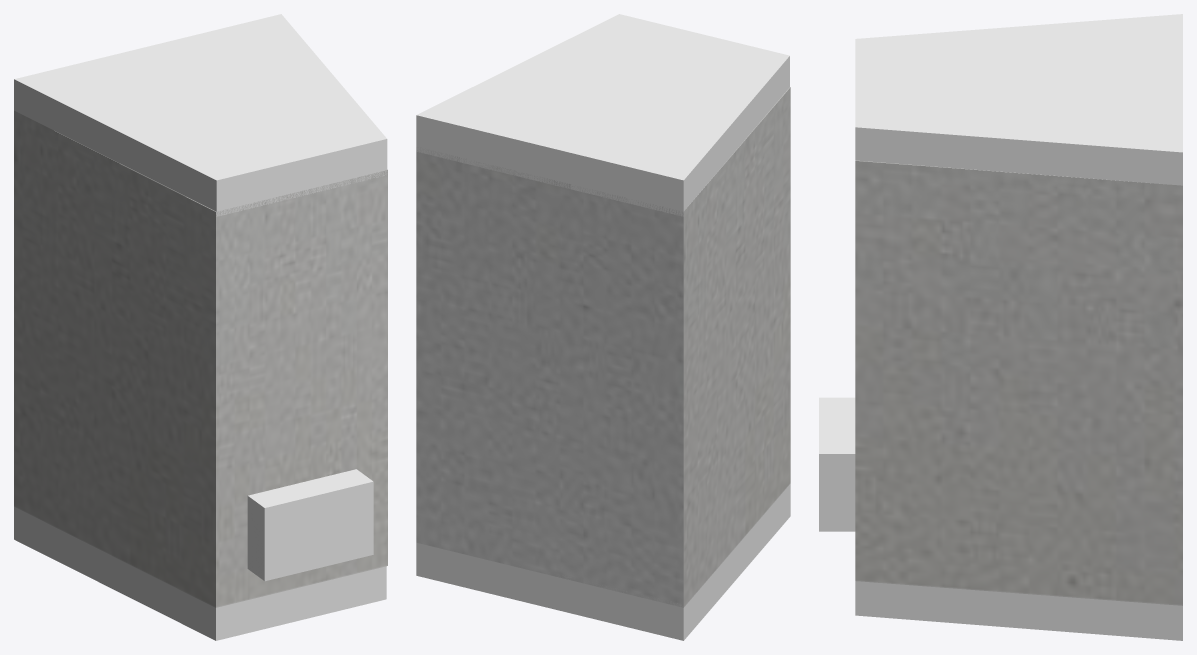
The model's file is jabonera.obj.
The picture shows the model from 3 angles, left to right: view 1: azimuth 30°, elevation 25°; view 2: azimuth 150°, elevation 25°; view 3: azimuth 270°, elevation 25°; orthographic projection. The views are drawn at different scales.
Parts seen in each view (by area): view 1: pCube4; view 2: pCube4; view 3: pCube4.
Boxes of the visible parts, x1=… form: pCube4: x1=14, y1=14, x2=387, y2=640; pCube4: x1=416, y1=14, x2=790, y2=640; pCube4: x1=819, y1=14, x2=1182, y2=640.
Bounding box in the file's own units: 1 × 1.64 × 1.11.
Materials: 3 (3 with a texture image).
